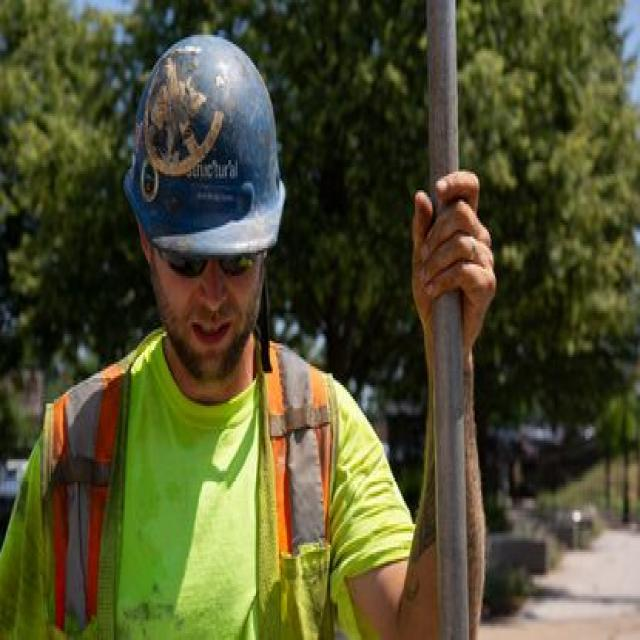Reflective-Jacket: (0, 336, 418, 631)
Safety-Helmet: (120, 35, 292, 257)
